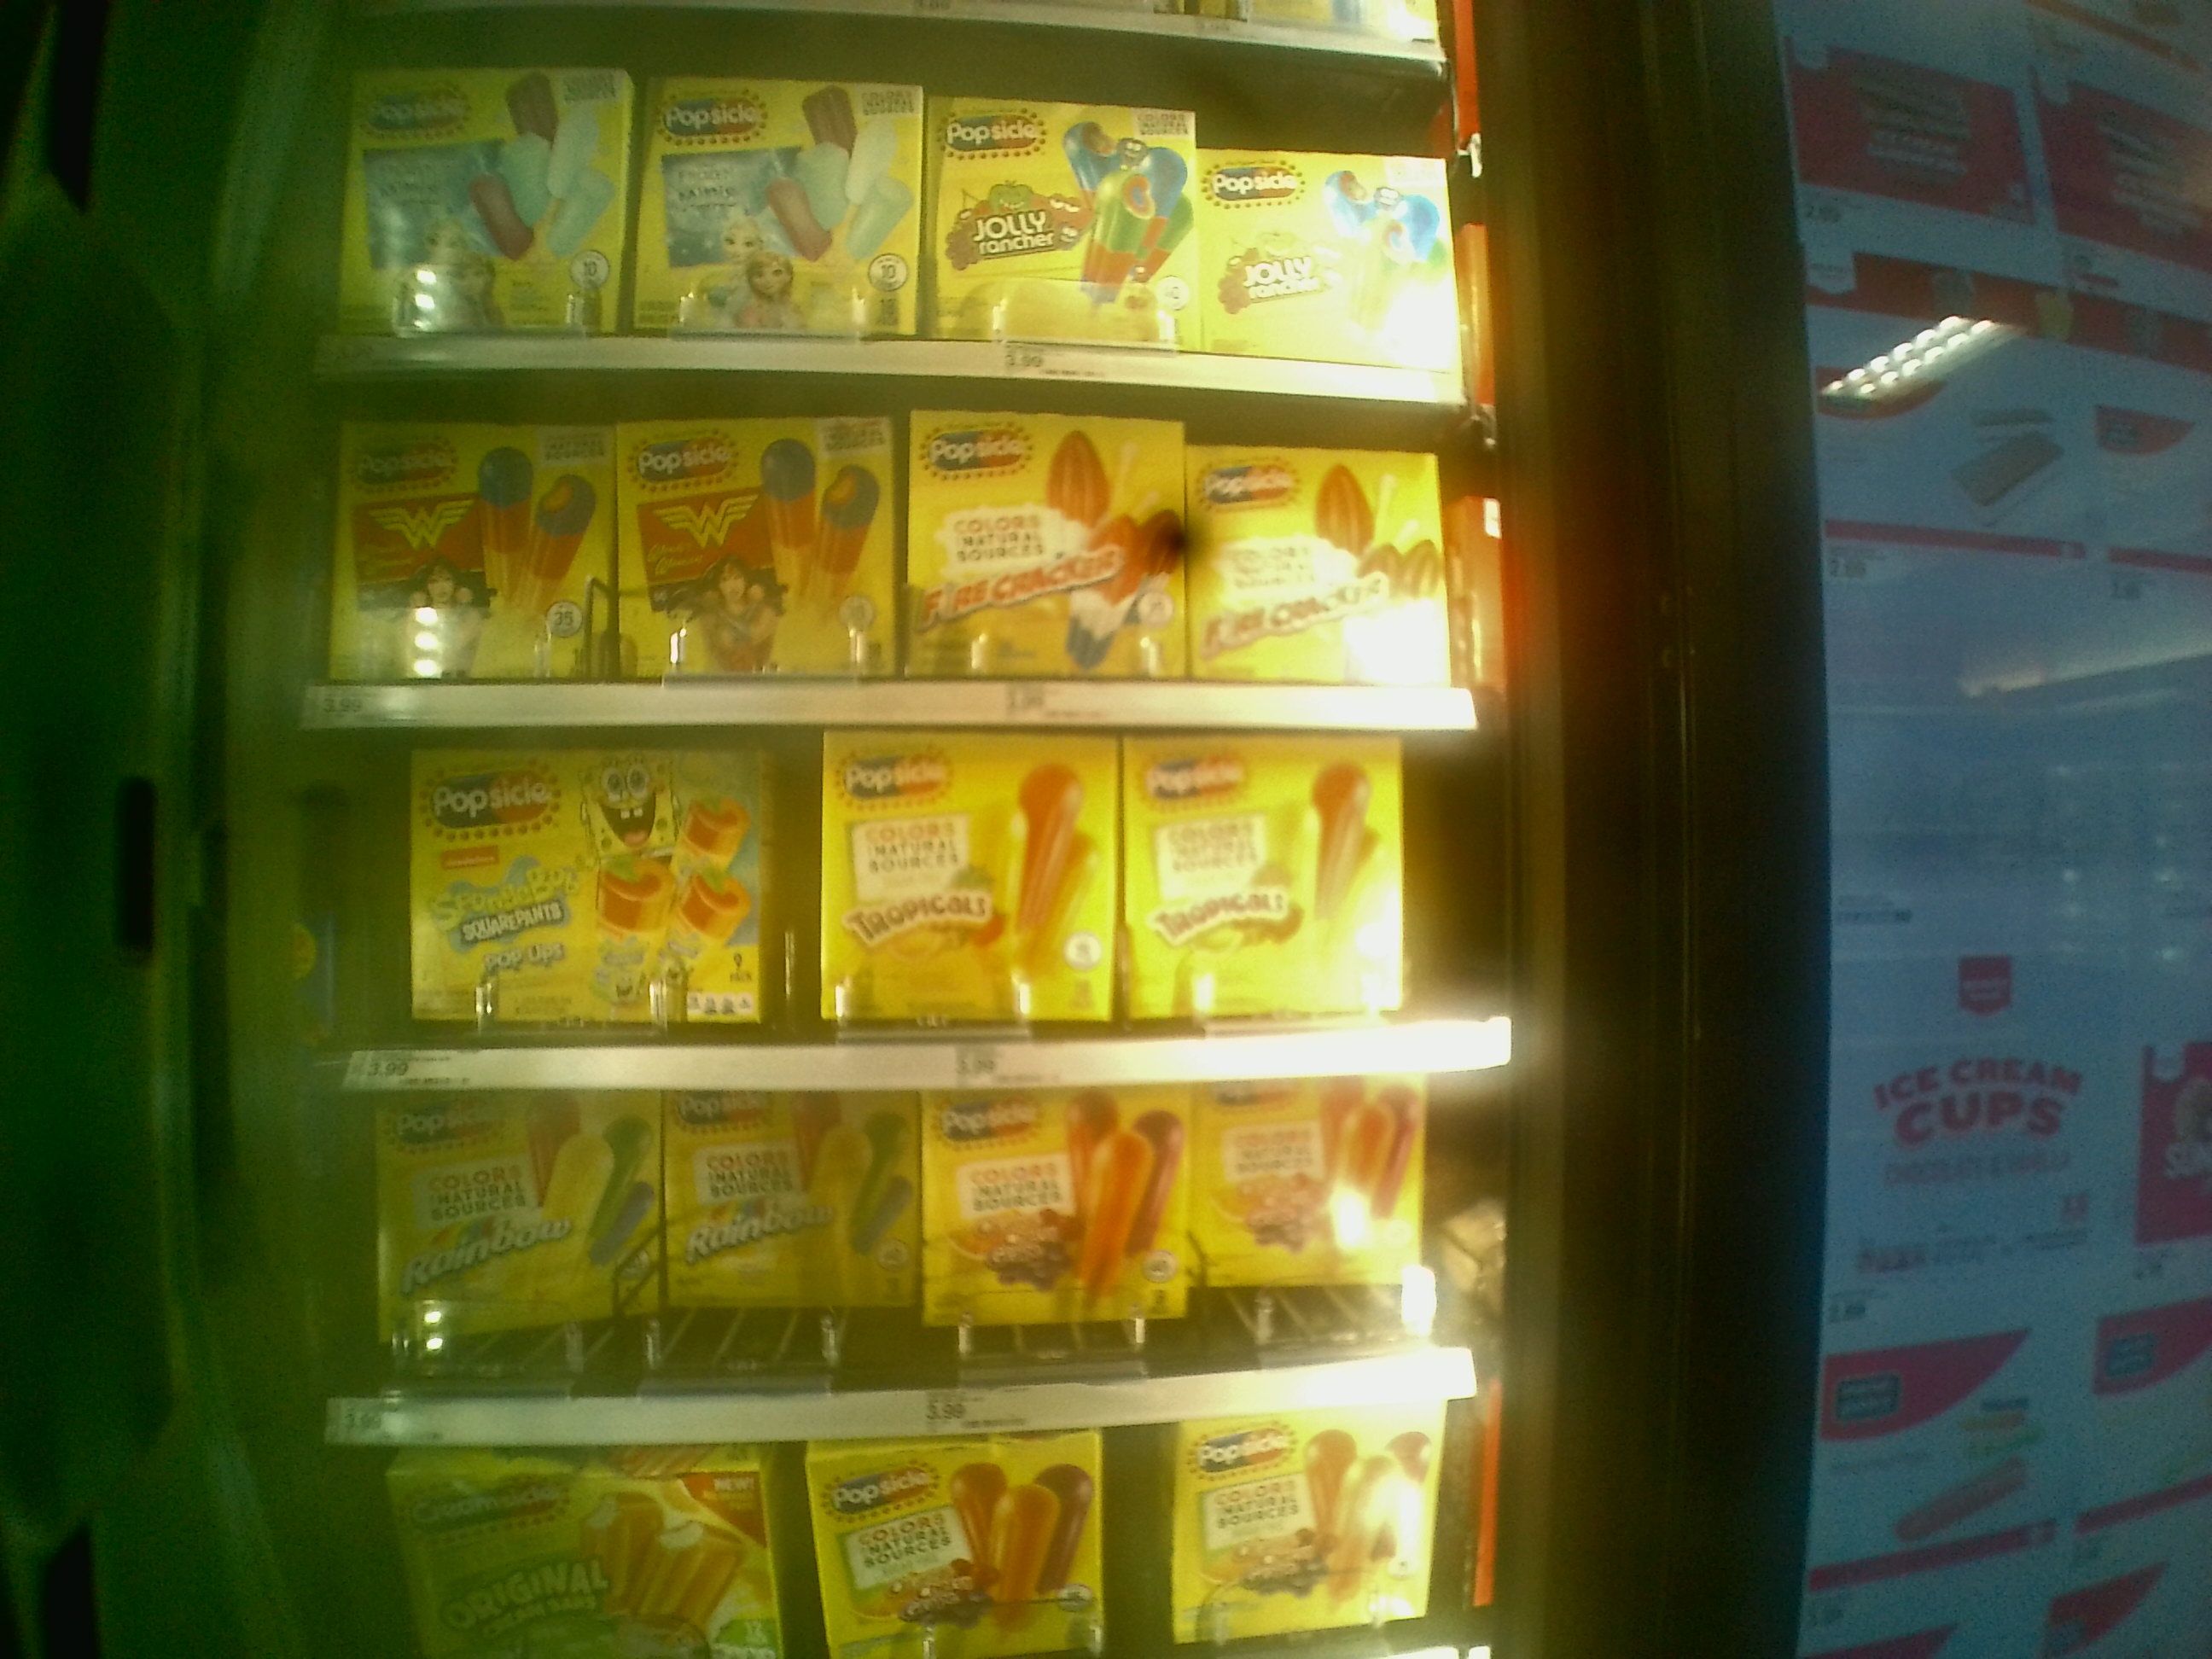frozen-food-shelf: (286, 734, 1519, 1094), (284, 1100, 1514, 1450), (289, 396, 1493, 734)
